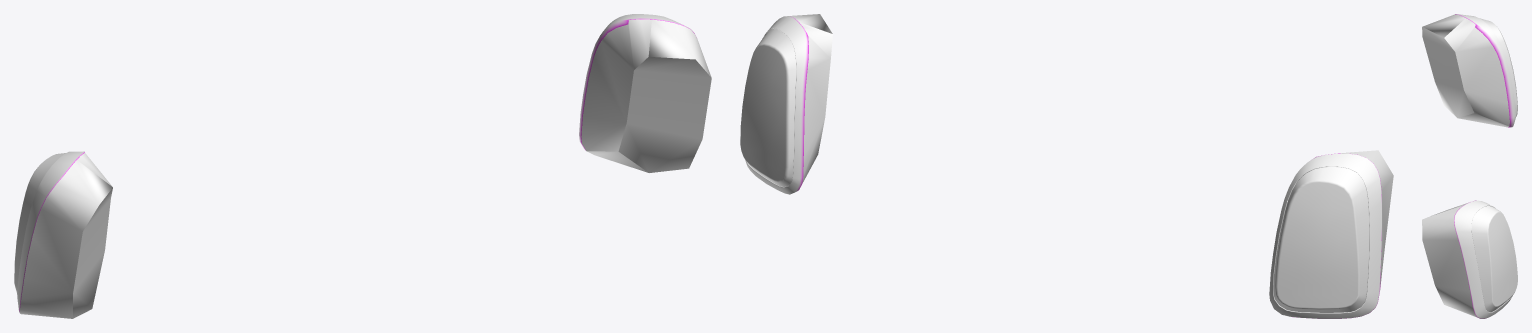
File: Car_Mini_CountrymanJCW_2017_TailLights_SetAcBk.fbx
3 views of the same model, side by side, from view 1: azimuth 30°, elevation 25°; view 2: azimuth 150°, elevation 25°; view 3: azimuth 270°, elevation 25° (orthographic). The views are drawn at different scales.
Parts seen in each view (by area): view 1: TailLightL 6, TailLightR 6; view 2: TailLightR 6, TailLightL 6; view 3: TailLightL 6, TailLightR 6.
Boxes of the visible parts, box(x1,y1,x2,y2) form: TailLightL 6: box(579, 14, 711, 172); TailLightR 6: box(14, 151, 112, 318); TailLightR 6: box(1269, 150, 1393, 318); TailLightL 6: box(740, 14, 832, 194); TailLightL 6: box(1422, 200, 1517, 318); TailLightR 6: box(1422, 14, 1517, 127).
Bounding box in the file's own units: 1.56 × 0.344 × 0.2895.
